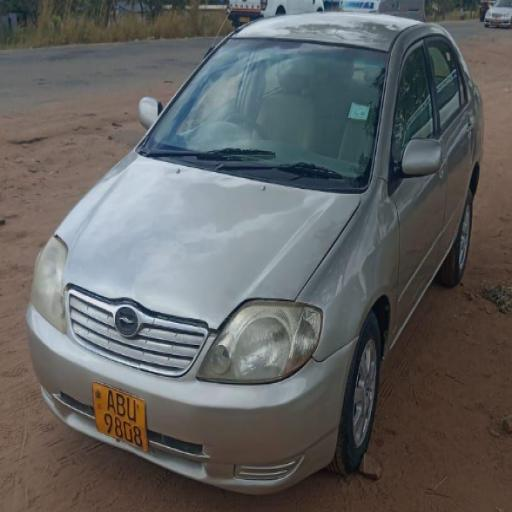number-plates: (90, 378, 151, 452)
